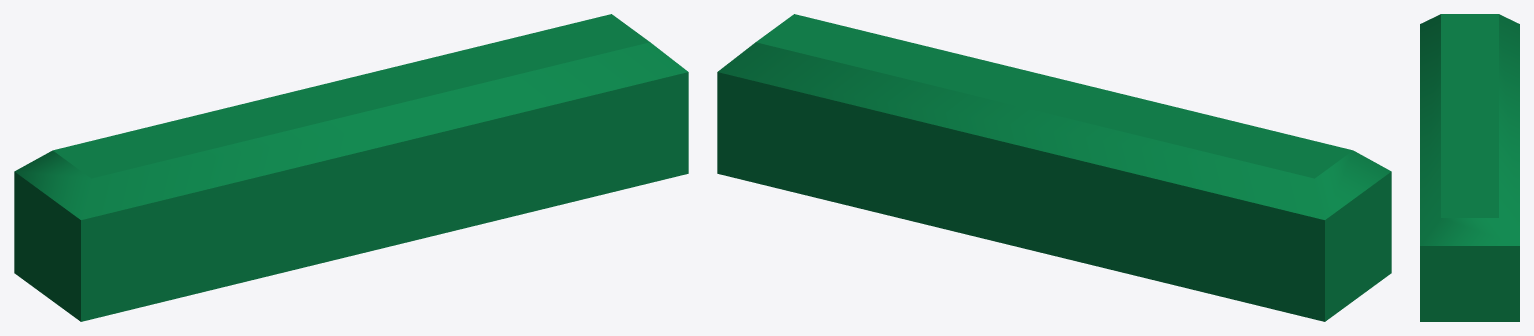
The model's file is hedge.glb.
3 views of the same model, side by side, from view 1: azimuth 30°, elevation 25°; view 2: azimuth 150°, elevation 25°; view 3: azimuth 270°, elevation 25° (orthographic). The views are drawn at different scales.
Parts seen in each view (by area): view 1: hedge; view 2: hedge; view 3: hedge.
Part boxes in pixels (<box>): hedge: <box>14,14,688,321</box>; hedge: <box>717,14,1391,321</box>; hedge: <box>1420,14,1519,321</box>.
Bounding box in the file's own units: 1 × 0.2 × 0.19.
